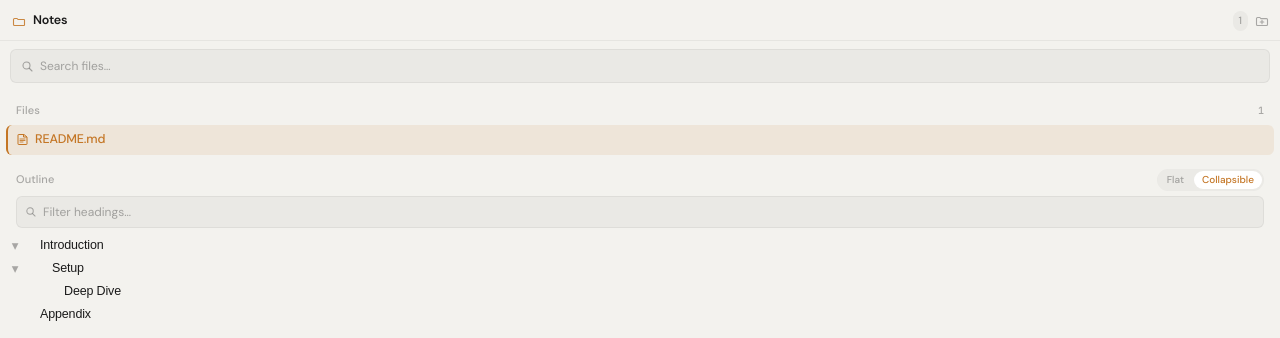
it: VaultSidebar › renders collapsible outline mode with branch toggles for nested headings
Check: the button named "Collapse Introduction" is shown, box top-left (6, 234), bottom-right (24, 256)
Check: the button "Deep Dive" is shown, box top-left (28, 280), bottom-right (1274, 302)
Click the button named "Collapse Setup": [15, 268] box top-left (6, 257), bottom-right (24, 279)
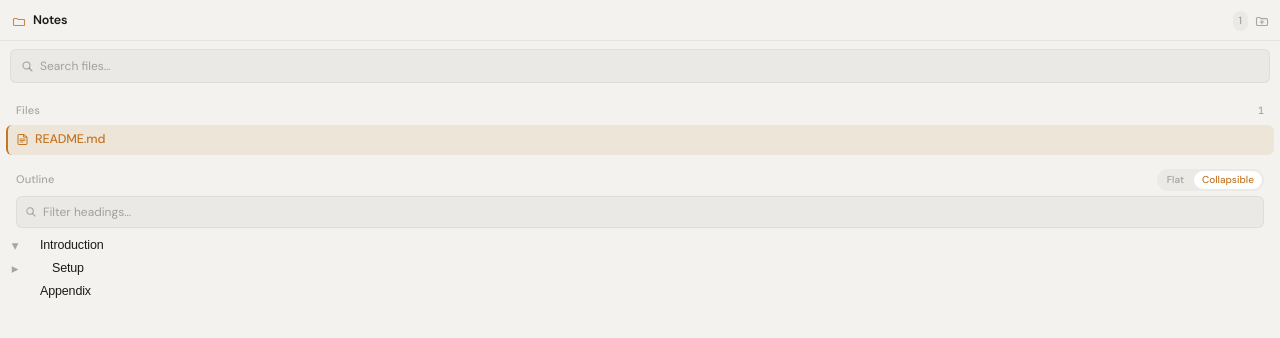
Check: the button "Deep Dive" is gone
Click the button named "Expand Setup": [15, 268] box top-left (6, 257), bottom-right (24, 279)
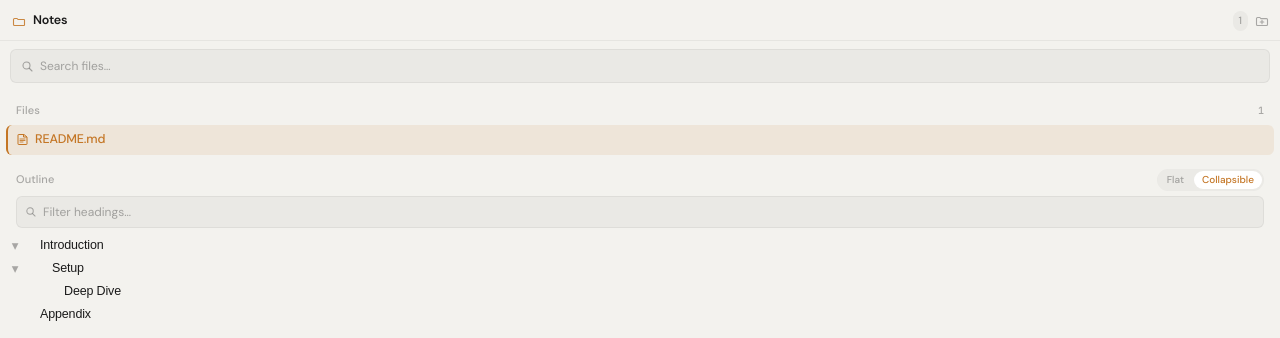
Check: the button "Deep Dive" is shown, box top-left (28, 280), bottom-right (1274, 302)
